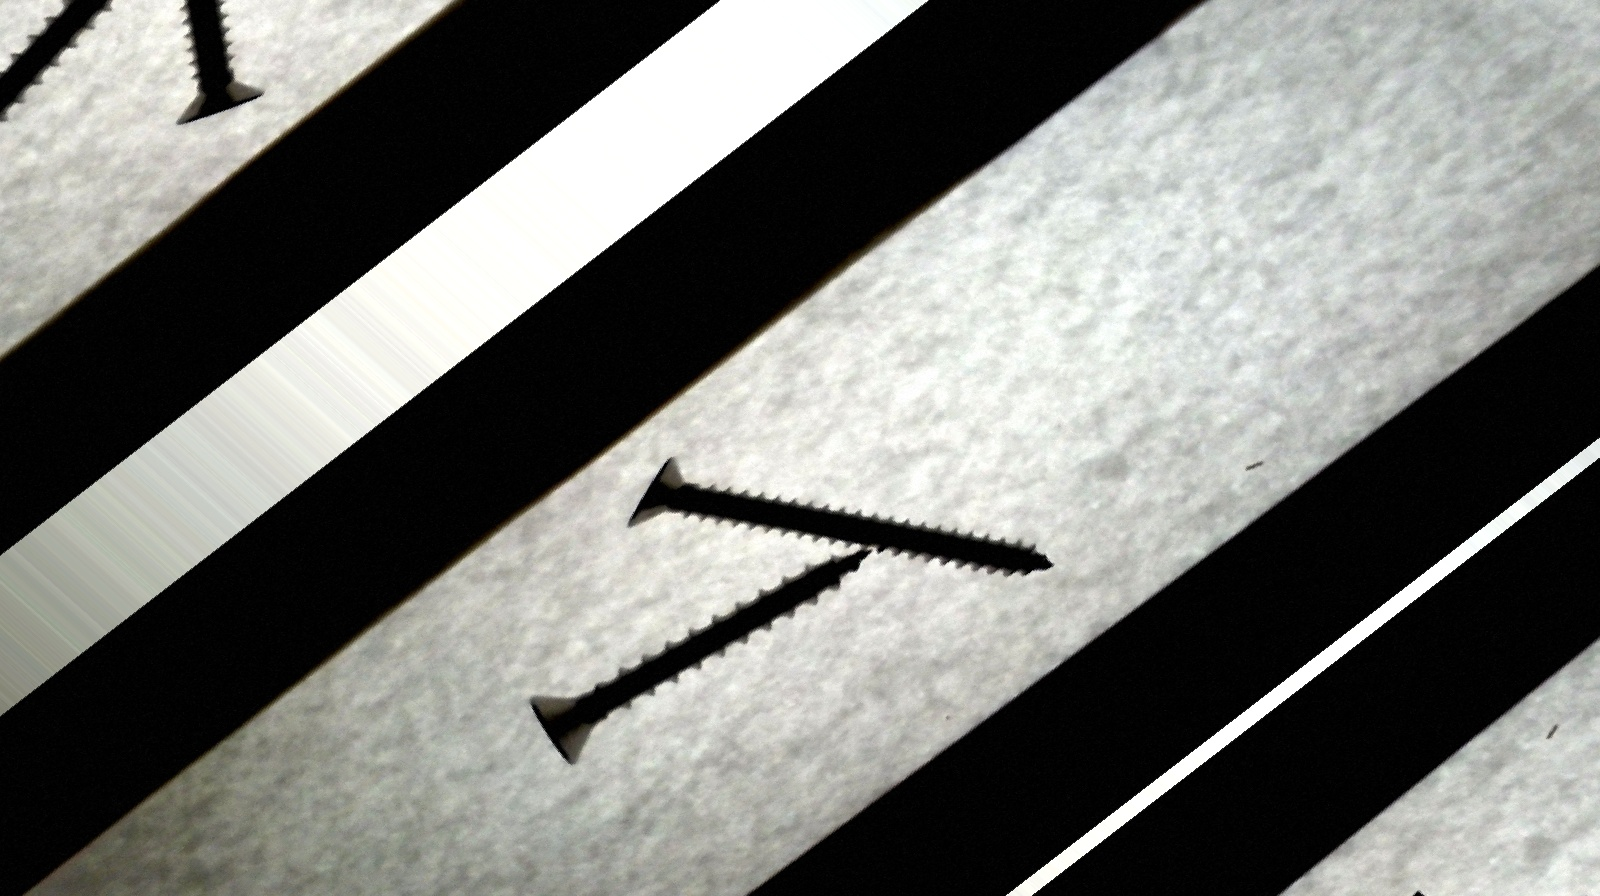S001: (492, 474, 893, 792)
S002: (591, 338, 1065, 733)
